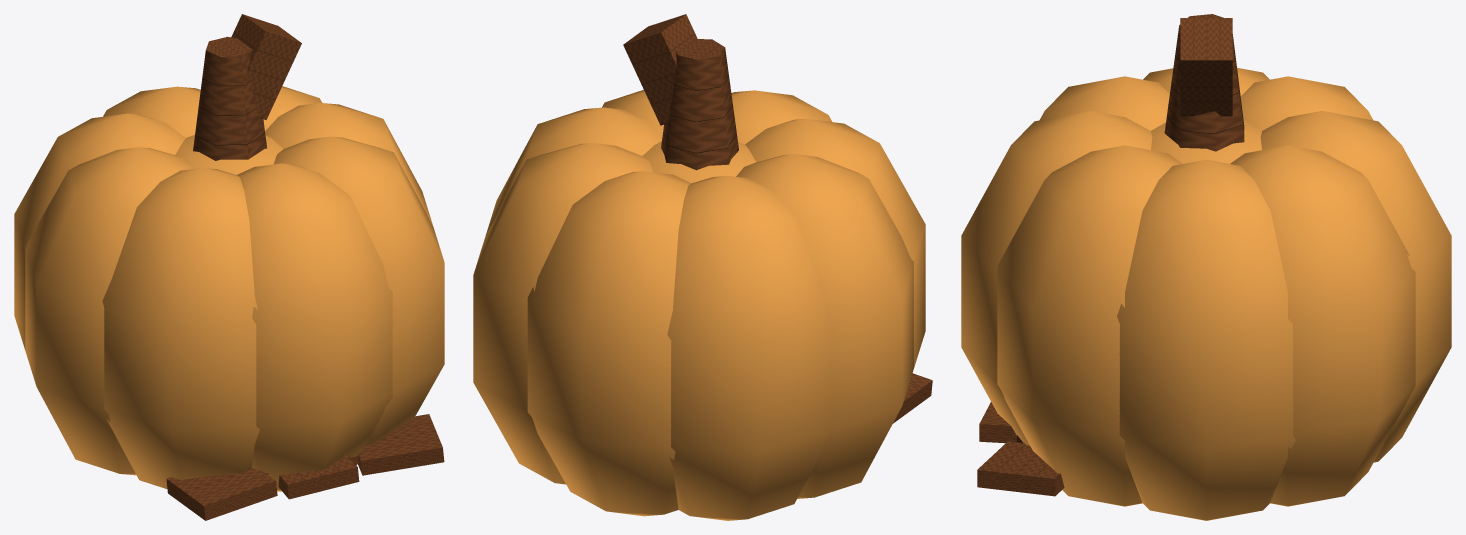
Rendered from halloween-slasher-street-uncarved-pumpkin-5652f37b__27303.glb.
The picture shows the model from 3 angles, left to right: view 1: azimuth 30°, elevation 25°; view 2: azimuth 150°, elevation 25°; view 3: azimuth 270°, elevation 25°; orthographic projection. The views are drawn at different scales.
Parts seen in each view (by area): view 1: uncarved-pumpkin; view 2: uncarved-pumpkin; view 3: uncarved-pumpkin.
Part boxes in pixels (box(x1,y1,x2,y2)): uncarved-pumpkin: box(14, 14, 444, 520); uncarved-pumpkin: box(473, 14, 932, 520); uncarved-pumpkin: box(961, 14, 1451, 520).
Size of the model in its own units: 0.5327 by 0.5603 by 0.5327.
2 materials, 1 textured.
